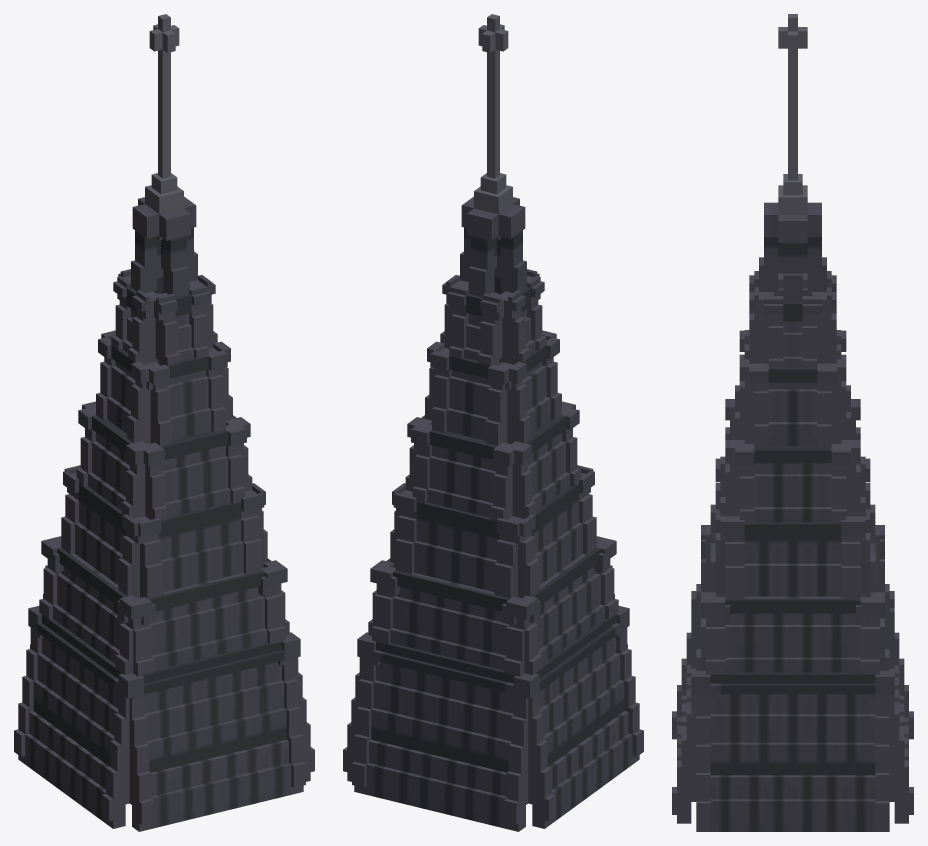
The model's file is TowerRooftop-3.fbx.
3 views of the same model, side by side, from view 1: azimuth 30°, elevation 25°; view 2: azimuth 150°, elevation 25°; view 3: azimuth 270°, elevation 25° (orthographic).
Visible parts, largest first — view 1: TowerRooftop-3; view 2: TowerRooftop-3; view 3: TowerRooftop-3.
Boxes of the visible parts, <box> form: TowerRooftop-3: <box>14,14,314,831</box>; TowerRooftop-3: <box>343,14,643,831</box>; TowerRooftop-3: <box>672,14,913,831</box>.
Size of the model in its own units: 250 by 875 by 250.
